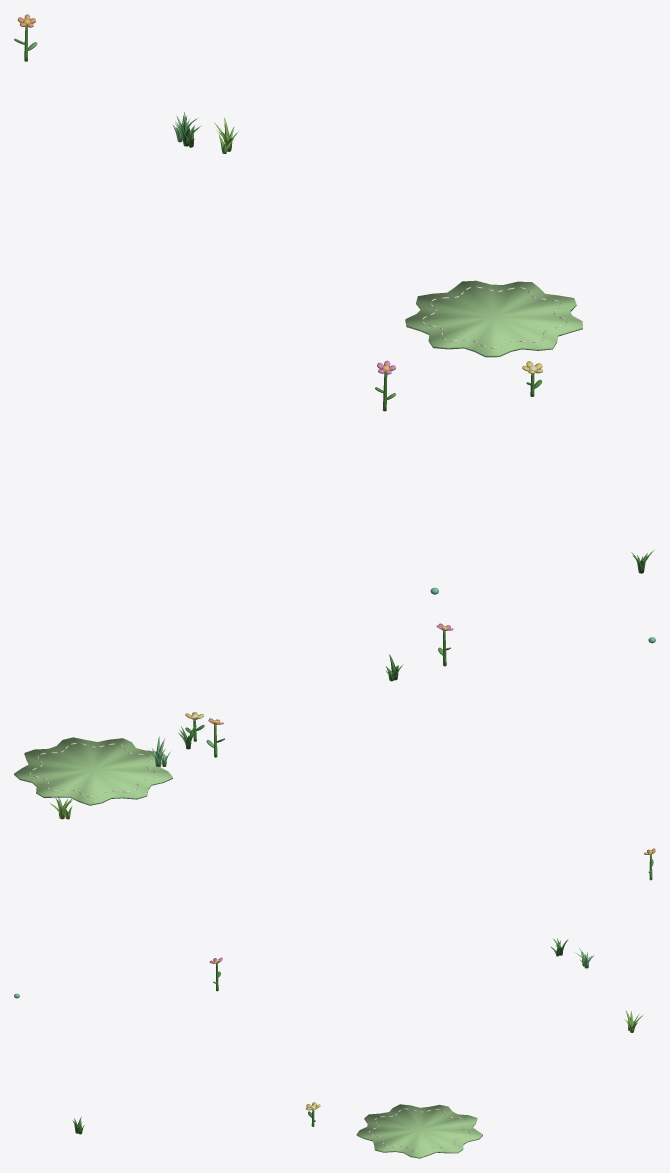
File: W1_FloraRing_7_10.fbx
3 renders of one model, top to bottom at view 1: azimuth 30°, elevation 25°; view 2: azimuth 150°, elevation 25°; view 3: azimuth 270°, elevation 25°, orthographic. The views are drawn at different scales.
Visible parts, largest first — view 1: W1_FloraRing_7_10; view 2: W1_FloraRing_7_10; view 3: W1_FloraRing_7_10.
Boxes of the visible parts, x1,y1,x2,y2 form: W1_FloraRing_7_10: (14,14,654,594); W1_FloraRing_7_10: (14,623,655,819); W1_FloraRing_7_10: (14,848,655,1158).
Bounding box in the file's own units: 2.11 × 1.43 × 3.89.
